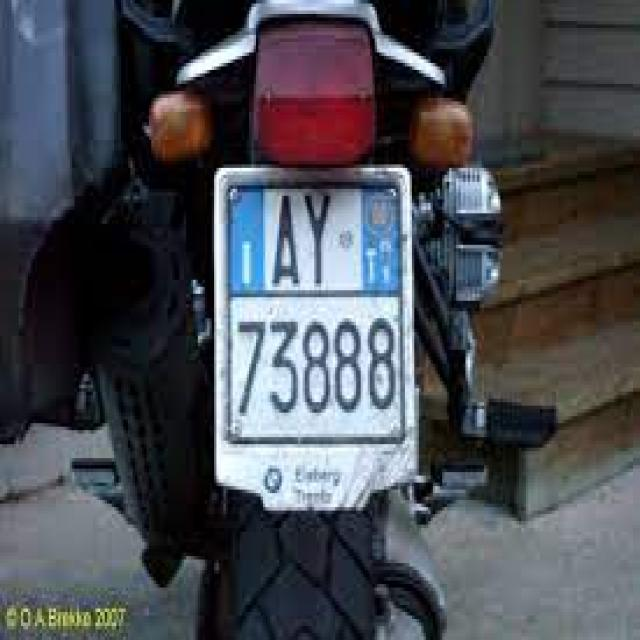number plate: (209, 158, 419, 510)
